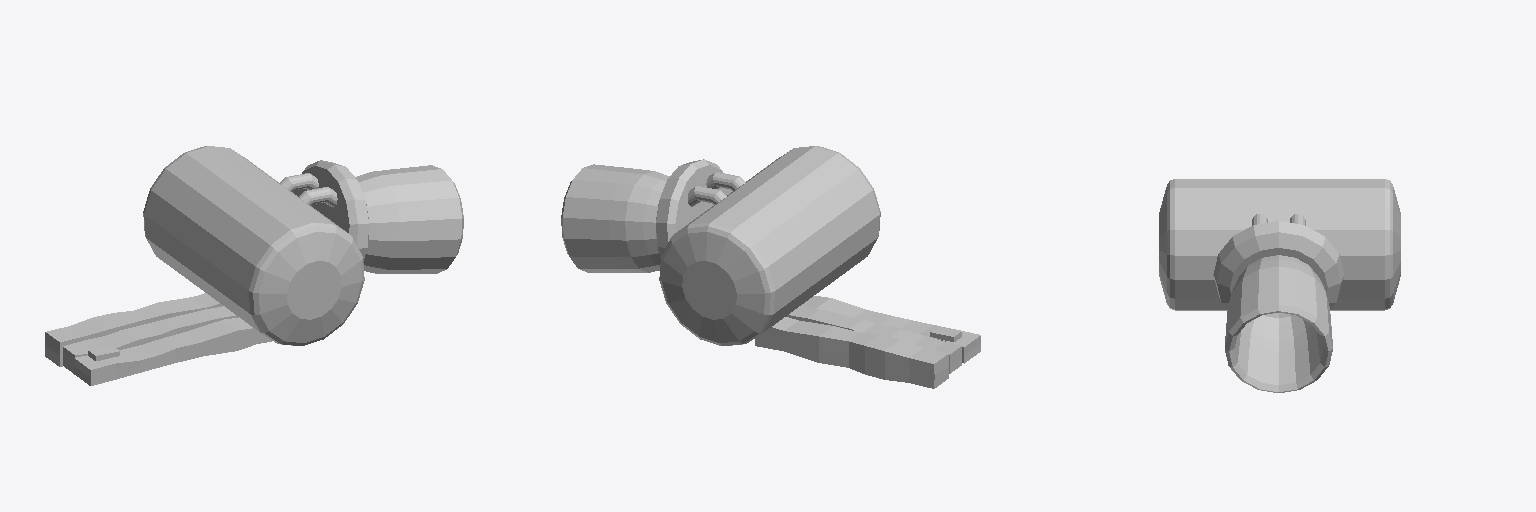
Rendered from naveBase.obj.
3 renders of one model, left to right at view 1: azimuth 30°, elevation 25°; view 2: azimuth 150°, elevation 25°; view 3: azimuth 270°, elevation 25°, orthographic.
Bounding box in the file's own units: 12.09 × 4.45 × 6.69.